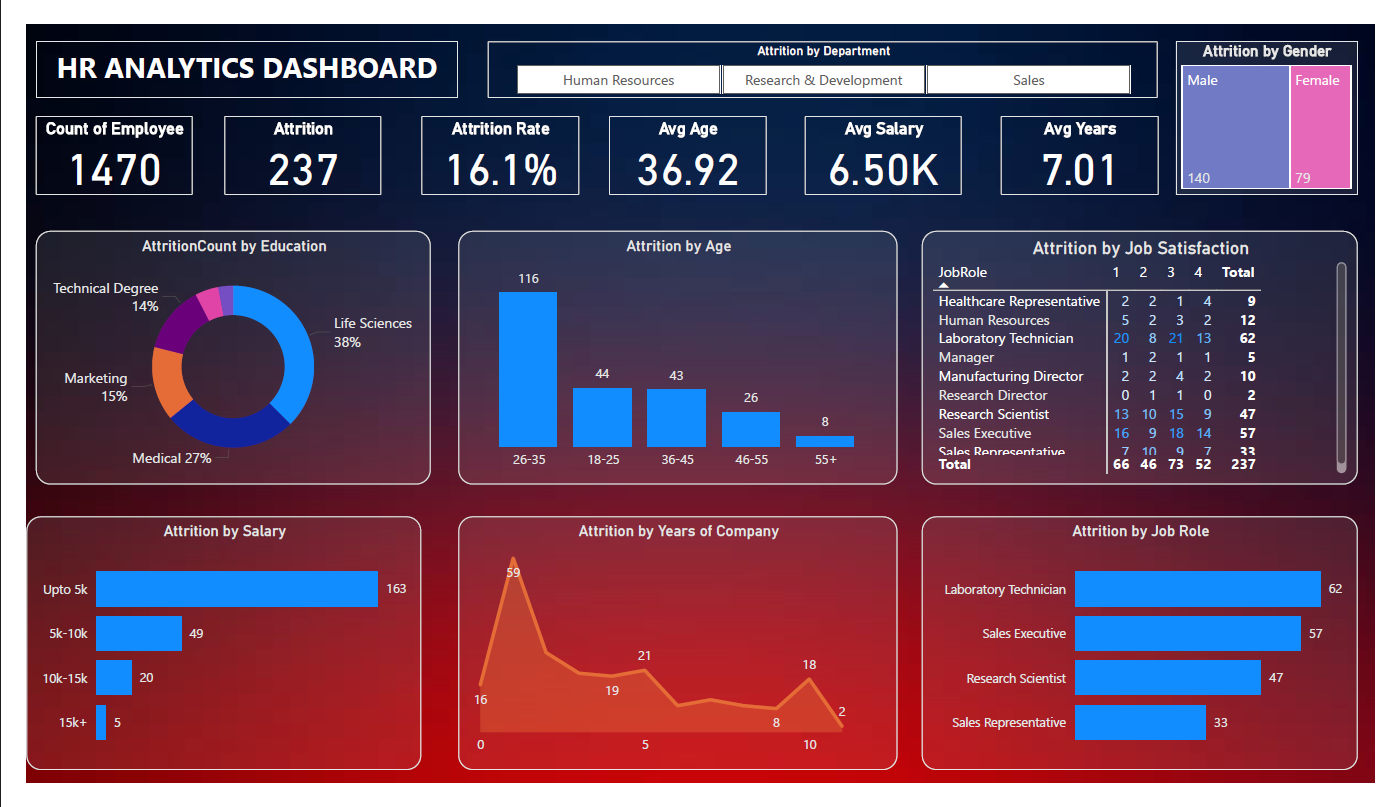

The page's visual inventory and layout, read from the dashboard file:
{"tool":"powerbi","page":{"name":"HR Analytics Dashboard","canvas":[1280,720],"ordinal":0},"visuals":[{"type":"card","title":"Count of Employee","fields":{"Values":["CountNonNull(HR_Analytics.EmpID)"]},"box":[8.6,87.1,149.7,74.8],"z":0},{"type":"card","title":"Attrition","fields":{"Values":["Sum(HR_Analytics.AttritionCount)"]},"box":[187.7,87.1,149.7,74.8],"z":1000},{"type":"card","title":"Attrition Rate","fields":{"Values":["HR_Analytics.AttritionRate"]},"box":[375.5,87.1,149.7,74.8],"z":2000},{"type":"card","title":"Avg Age","fields":{"Values":["Avg(HR_Analytics.Age)"]},"box":[553.4,87.1,149.7,74.8],"z":3000},{"type":"card","title":"Avg Salary","fields":{"Values":["Avg(HR_Analytics.MonthlyIncome)"]},"box":[738.7,87.1,149.7,74.8],"z":4000},{"type":"card","title":"Avg Years","fields":{"Values":["Avg(HR_Analytics.YearsAtCompany)"]},"box":[925.2,87.1,149.7,74.8],"z":5000},{"type":"donutChart","title":"AttritionCount by Education","fields":{"Category":["HR_Analytics.EducationField"],"Y":["Sum(HR_Analytics.AttritionCount)"]},"box":[8.6,196.3,375.5,240.5],"z":6000},{"type":"columnChart","title":"Attrition by Age","fields":{"Category":["HR_Analytics.AgeGroup"],"Y":["Sum(HR_Analytics.AttritionCount)"]},"box":[409.8,196.3,417.2,240.5],"z":7000},{"type":"pivotTable","title":"Attrition by Job  Satisfaction","fields":{"Rows":["HR_Analytics.JobRole"],"Columns":["HR_Analytics.JobSatisfaction"],"Values":["Sum(HR_Analytics.AttritionCount)"]},"box":[850.3,196.3,413.5,240.5],"z":8000},{"type":"barChart","title":"Attrition by Salary","fields":{"Category":["HR_Analytics.SalarySlab"],"Y":["Sum(HR_Analytics.AttritionCount)"]},"box":[0,467.5,375.5,240.5],"z":9000},{"type":"barChart","title":"Attrition by Job Role","fields":{"Y":["Sum(HR_Analytics.AttritionCount)"],"Category":["HR_Analytics.JobRole"]},"box":[850.3,467.5,413.5,240.5],"z":10000},{"type":"areaChart","title":"Attrition by Years of Company","fields":{"Category":["HR_Analytics.YearsAtCompany"],"Y":["Sum(HR_Analytics.AttritionCount)"]},"box":[409.8,467.5,417.2,240.5],"z":11000},{"type":"treemap","title":"Attrition by Gender","fields":{"Group":["HR_Analytics.Gender"],"Values":["Sum(HR_Analytics.AttritionCount)"]},"box":[1090.8,16,173,146],"z":12000},{"type":"slicer","title":"Attrition by Department","fields":{"Values":["HR_Analytics.Department"]},"box":[437.7,16.5,636.7,53.5],"z":13000},{"type":"textbox","box":[8.6,16,401.2,54],"z":14000}]}

Visuals, with their boxes in screenshot pixels (x1, y1, x2, y2), scaled from the page's 1280x720 canvas onto the 1400x807 screenshot:
"Count of Employee" card: 9 98 173 181
"Attrition" card: 205 98 369 181
"Attrition Rate" card: 411 98 574 181
"Avg Age" card: 605 98 769 181
"Avg Salary" card: 808 98 972 181
"Avg Years" card: 1012 98 1176 181
"AttritionCount by Education" donutChart: 9 220 420 490
"Attrition by Age" columnChart: 448 220 905 490
"Attrition by Job  Satisfaction" pivotTable: 930 220 1382 490
"Attrition by Salary" barChart: 0 524 411 794
"Attrition by Job Role" barChart: 930 524 1382 794
"Attrition by Years of Company" areaChart: 448 524 905 794
"Attrition by Gender" treemap: 1193 18 1382 182
"Attrition by Department" slicer: 479 18 1175 78
textbox: 9 18 448 78
